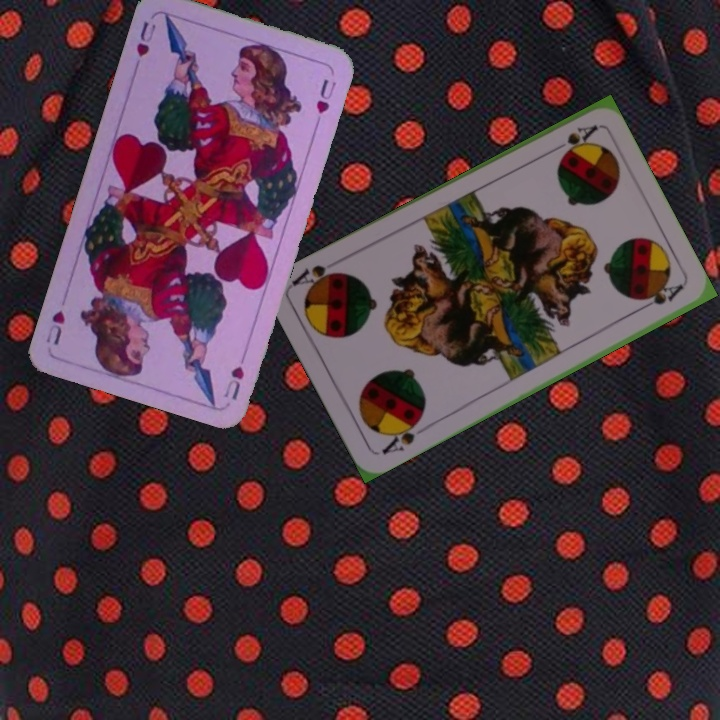HU: (219, 346, 250, 403), (132, 17, 159, 60)
SA: (546, 120, 600, 159), (377, 414, 425, 457)
